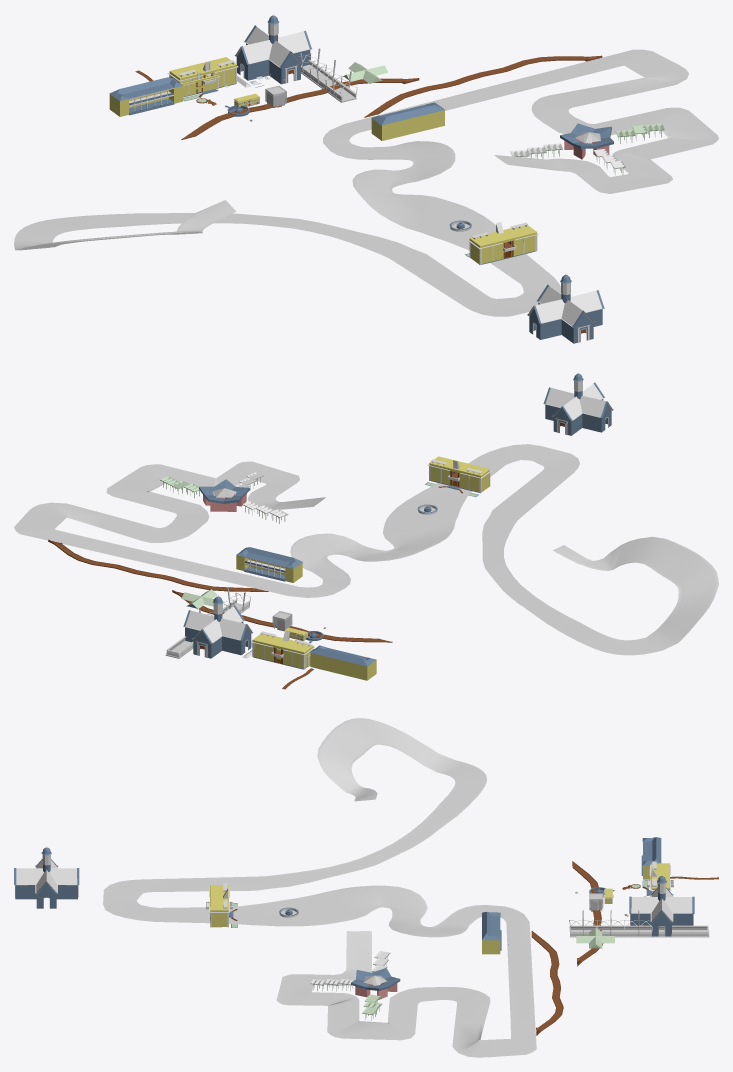
File: caillebotis_FrontdeMer 1.fbx
3 views of the same model, one above another, from view 1: azimuth 30°, elevation 25°; view 2: azimuth 150°, elevation 25°; view 3: azimuth 270°, elevation 25° (orthographic). The views are drawn at different scales.
Visible parts, largest first — view 1: BézierCurve.001, Circle.004, Circle, 001_REF TAILLE BATIMENTS .001, M.Bloc.reference.002, M.Bloc.reference.006, M.Caillebotis.FDM.001, 001_REF TAILLE BATIMENTS, M.Debarcadere.FDM, M.Caillebotis.FDM.002, Circle.002, M.Bloc.reference.007 (+1 smaller); view 2: BézierCurve.001, Circle.004, Circle, M.Bloc.reference.006, 001_REF TAILLE BATIMENTS, 001_REF TAILLE BATIMENTS .001, M.Bloc.reference.002, M.Caillebotis.FDM.001, Circle.002, M.Debarcadere.FDM, M.Caillebotis.FDM.002; view 3: BézierCurve.001, Circle.004, Circle, M.Debarcadere.FDM, M.Caillebotis.FDM.001, Circle.002, 001_REF TAILLE BATIMENTS .001, M.Bloc.reference.006, M.Bloc.reference.002, M.Caillebotis.FDM.002.
Boxes of the visible parts, x1,y1,x2,y2 form: BézierCurve.001: (14,49,718,316); Circle.004: (527,274,604,343); Circle: (234,14,311,84); 001_REF TAILLE BATIMENTS .001: (468,222,538,265); M.Bloc.reference.002: (109,77,182,116); M.Bloc.reference.006: (371,102,444,140); M.Caillebotis.FDM.001: (364,55,602,117); 001_REF TAILLE BATIMENTS: (167,57,238,92); M.Debarcadere.FDM: (278,36,357,102); M.Caillebotis.FDM.002: (181,78,419,139); Circle.002: (560,123,613,159); M.Bloc.reference.007: (343,62,388,83); BézierCurve.001: (14,444,718,655); Circle.004: (543,372,613,435); Circle: (183,595,252,658); M.Bloc.reference.006: (236,547,302,582); 001_REF TAILLE BATIMENTS: (251,630,314,669); 001_REF TAILLE BATIMENTS .001: (427,456,491,493); M.Bloc.reference.002: (310,645,376,680); M.Caillebotis.FDM.001: (48,539,268,591); Circle.002: (199,479,249,511); M.Debarcadere.FDM: (165,588,250,658); M.Caillebotis.FDM.002: (172,590,392,642); BézierCurve.001: (103,718,536,1057); Circle.004: (14,846,79,908); Circle: (629,875,694,936); M.Debarcadere.FDM: (569,910,709,937); M.Caillebotis.FDM.001: (531,931,563,1035); Circle.002: (351,968,400,999); 001_REF TAILLE BATIMENTS .001: (209,883,229,927); M.Bloc.reference.006: (482,912,501,954); M.Bloc.reference.002: (641,837,661,879); M.Caillebotis.FDM.002: (572,861,603,966).
Size of the model in its own units: 46498 by 3900 by 45400.
